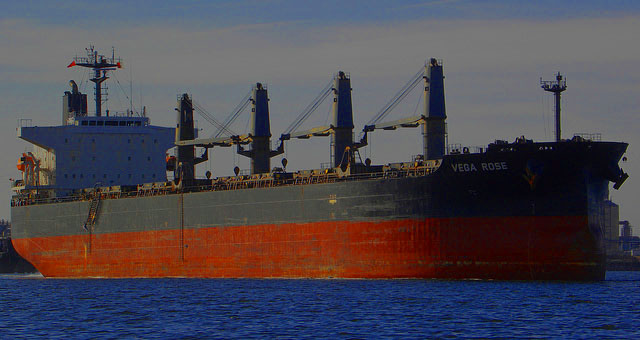bulk carrier: (10, 46, 630, 279)
